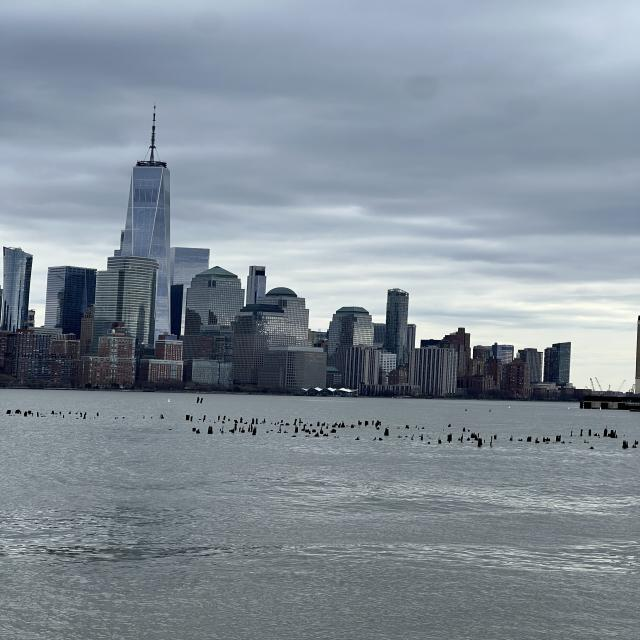WTC: (121, 104, 172, 258)
